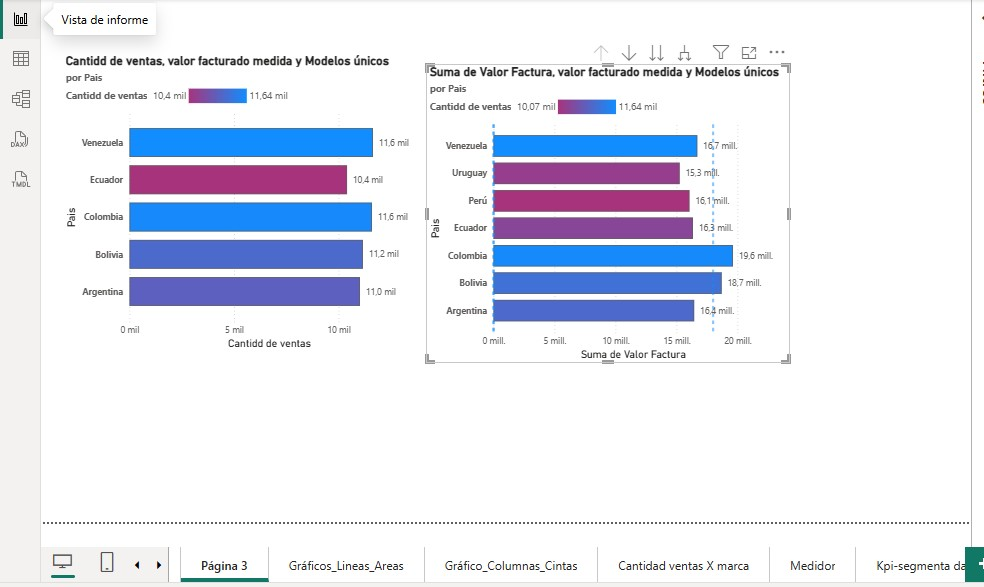

The page's visual inventory and layout, read from the dashboard file:
{"tool":"powerbi","page":{"name":"Página 3","canvas":[1280,720],"ordinal":2},"visuals":[{"type":"barChart","fields":{"Category":["País.Nombre"],"Y":["Factura.Cantidd de ventas"]},"box":[29.2,73.8,500,412.3],"z":0},{"type":"barChart","fields":{"Category":["País.Nombre","Marca.DescripciónMarca","Modelo.DescripciónModelo"],"Y":["Sum(Factura.Valor Factura)"]},"box":[529.2,89.2,501.5,412.3],"z":1000}]}

Visuals, with their boxes on the page's 1280x720 design canvas (x1, y1, x2, y2). These are canvas units, not pixel positions in the 984x587 screenshot, which may show the page scaled, cropped or inside an application window:
barChart - País.Nombre x Factura.Cantidd de ventas: bbox=(29, 74, 529, 486)
barChart - País.Nombre x Marca.DescripciónMarca: bbox=(529, 89, 1031, 502)
